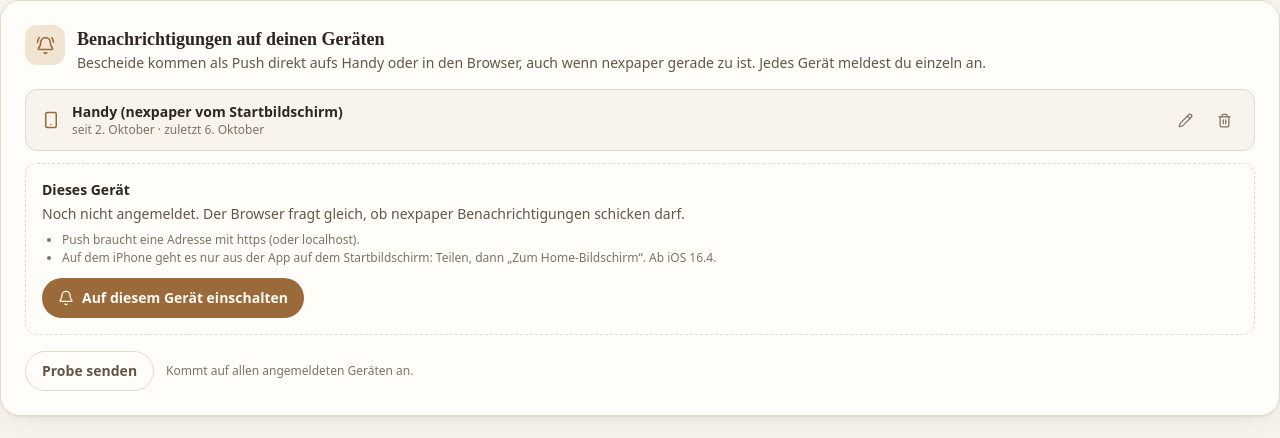
Test: the devices › tells when the person refuses the permission and sends nothing
The width and height of the screenshot is (1280, 438).
Click the button "Auf diesem Gerät einschalten".
click(173, 298)  # box 42,278 -> 304,318
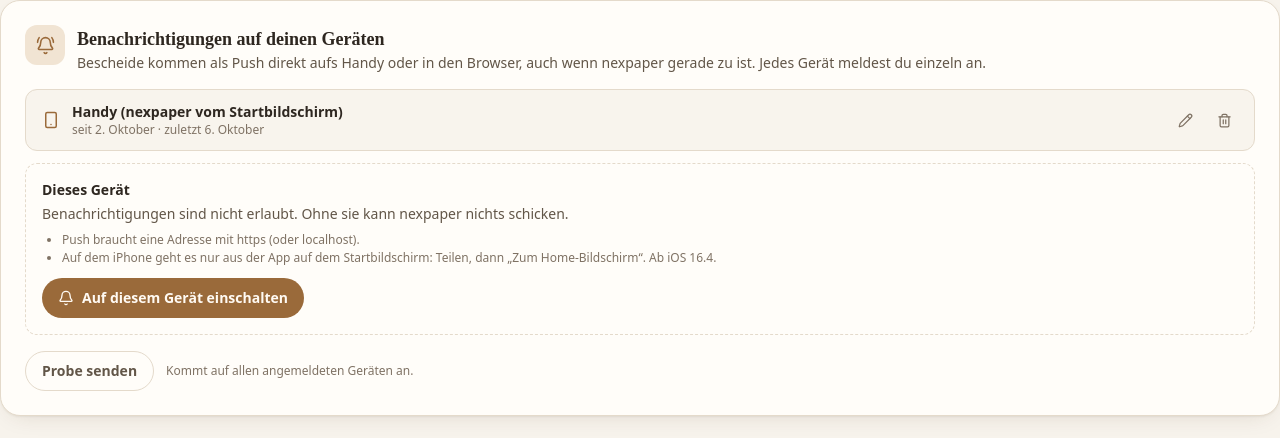
Result: the text "Benachrichtigungen sind nicht erlaubt." is shown at 42,204 -> 569,223
